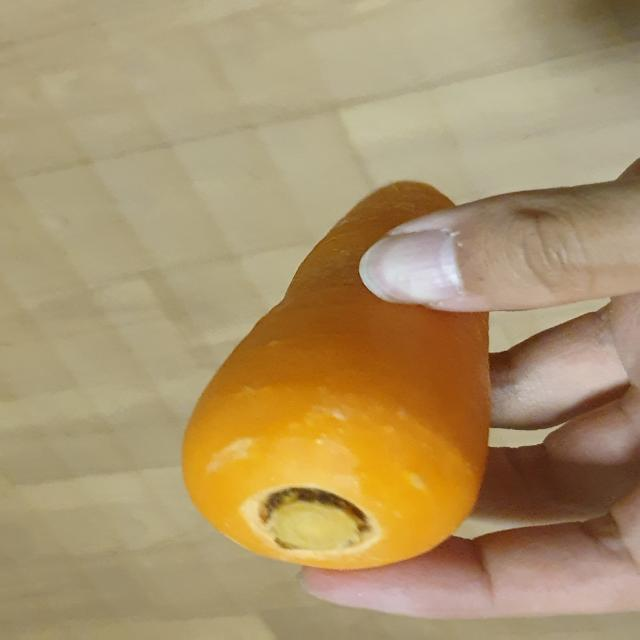carrot: (172, 178, 495, 572)
